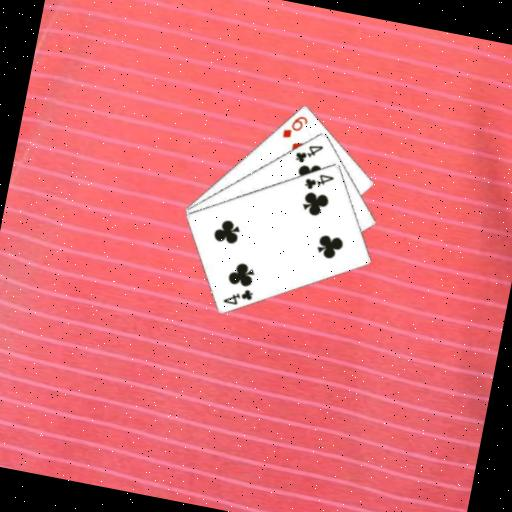4C: (291, 137, 326, 168), (220, 282, 256, 310), (301, 168, 337, 195)
6D: (279, 109, 311, 143)
